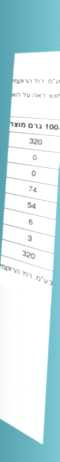carbs: (27, 184, 38, 196)
energy: (28, 137, 44, 147)
fat: (31, 153, 38, 163)
protein: (26, 233, 33, 244)
